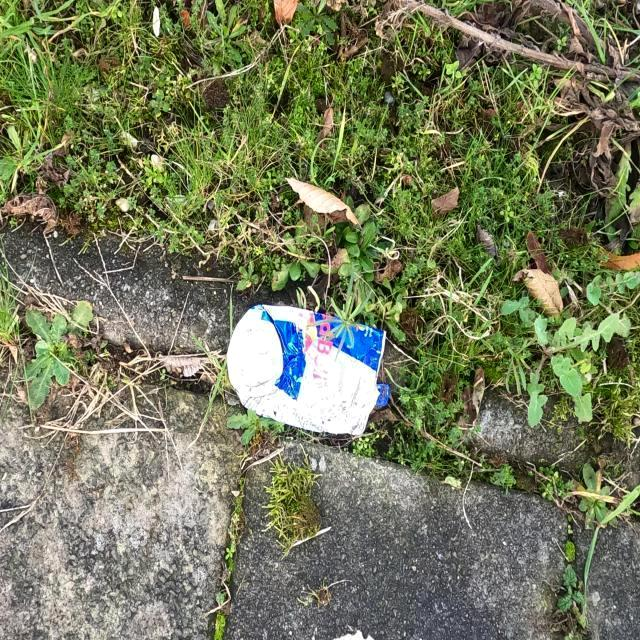Metal: (225, 303, 391, 441)
